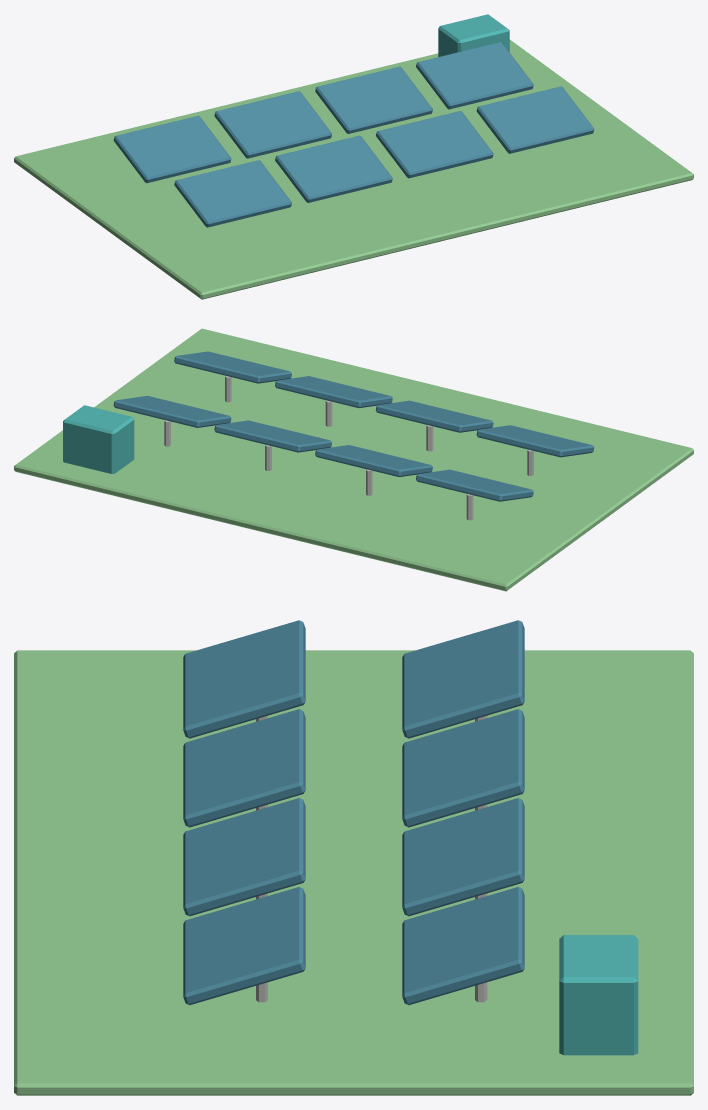
File: UTIL_SOLAR_3x2_001.glb
3 renders of one model, top to bottom at view 1: azimuth 30°, elevation 25°; view 2: azimuth 150°, elevation 25°; view 3: azimuth 270°, elevation 25°, orthographic. The views are drawn at different scales.
Parts seen in each view (by area): view 1: UTIL_SOLAR_3x2_001_Visual; view 2: UTIL_SOLAR_3x2_001_Visual; view 3: UTIL_SOLAR_3x2_001_Visual.
Boxes of the visible parts, left/top/right/bottom form: UTIL_SOLAR_3x2_001_Visual: left=14, top=14, right=693, bottom=299; UTIL_SOLAR_3x2_001_Visual: left=14, top=328, right=693, bottom=591; UTIL_SOLAR_3x2_001_Visual: left=14, top=620, right=693, bottom=1095.
Size of what is drawn, in the model's own units: 5.88 by 0.5637 by 3.88.
